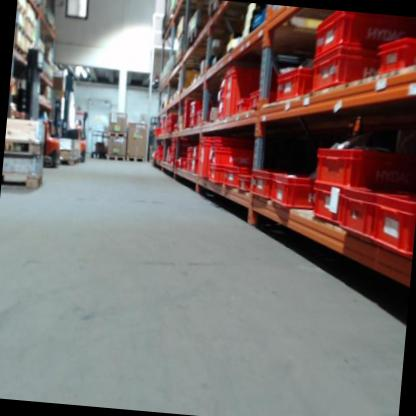pallet: (1, 171, 45, 195), (4, 137, 45, 158), (206, 0, 223, 20), (186, 27, 202, 48), (125, 154, 147, 164), (107, 130, 128, 139), (14, 44, 26, 57), (106, 154, 125, 162)
pallet_truck: (20, 48, 68, 170), (56, 70, 95, 159)
small_load_carrier: (309, 12, 415, 72), (314, 138, 416, 192), (308, 49, 385, 99), (370, 185, 416, 257), (335, 185, 378, 240), (220, 61, 259, 120), (380, 31, 416, 88), (271, 170, 319, 212), (201, 137, 242, 184), (309, 183, 348, 226), (206, 145, 260, 169), (274, 61, 308, 97), (250, 163, 281, 202), (245, 87, 274, 111), (224, 163, 241, 189), (239, 172, 255, 193), (208, 169, 225, 187), (234, 97, 248, 118), (189, 98, 205, 116), (216, 88, 229, 104), (215, 103, 228, 119), (187, 115, 199, 132), (191, 156, 201, 173), (218, 76, 230, 89), (185, 159, 193, 174), (193, 145, 201, 159), (186, 144, 194, 158)
